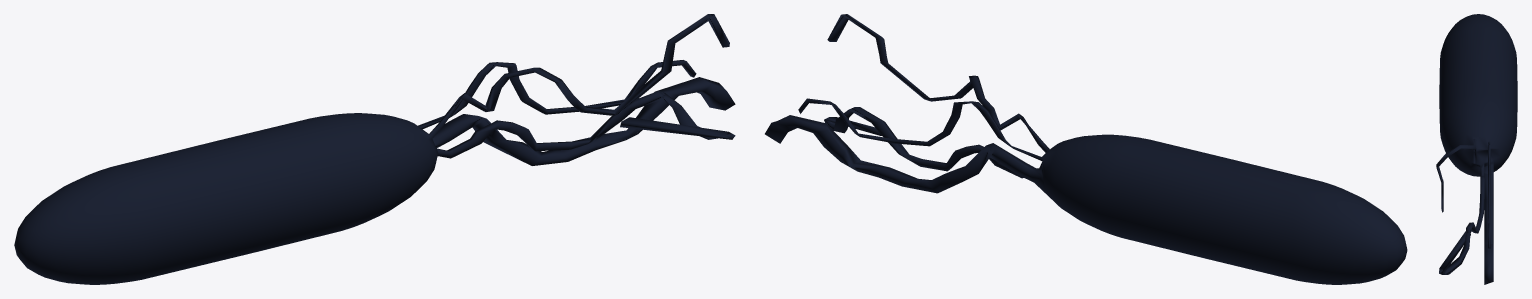
The model's file is bacterie.glb.
3 renders of one model, left to right at view 1: azimuth 30°, elevation 25°; view 2: azimuth 150°, elevation 25°; view 3: azimuth 270°, elevation 25°, orthographic. The views are drawn at different scales.
Parts seen in each view (by area): view 1: Sphere; view 2: Sphere; view 3: Sphere.
Boxes of the visible parts, <box> form: Sphere: <box>14,14,735,284</box>; Sphere: <box>765,14,1407,284</box>; Sphere: <box>1436,14,1517,284</box>.
Size of the model in its own units: 5.78 by 1.12 by 0.8501.
